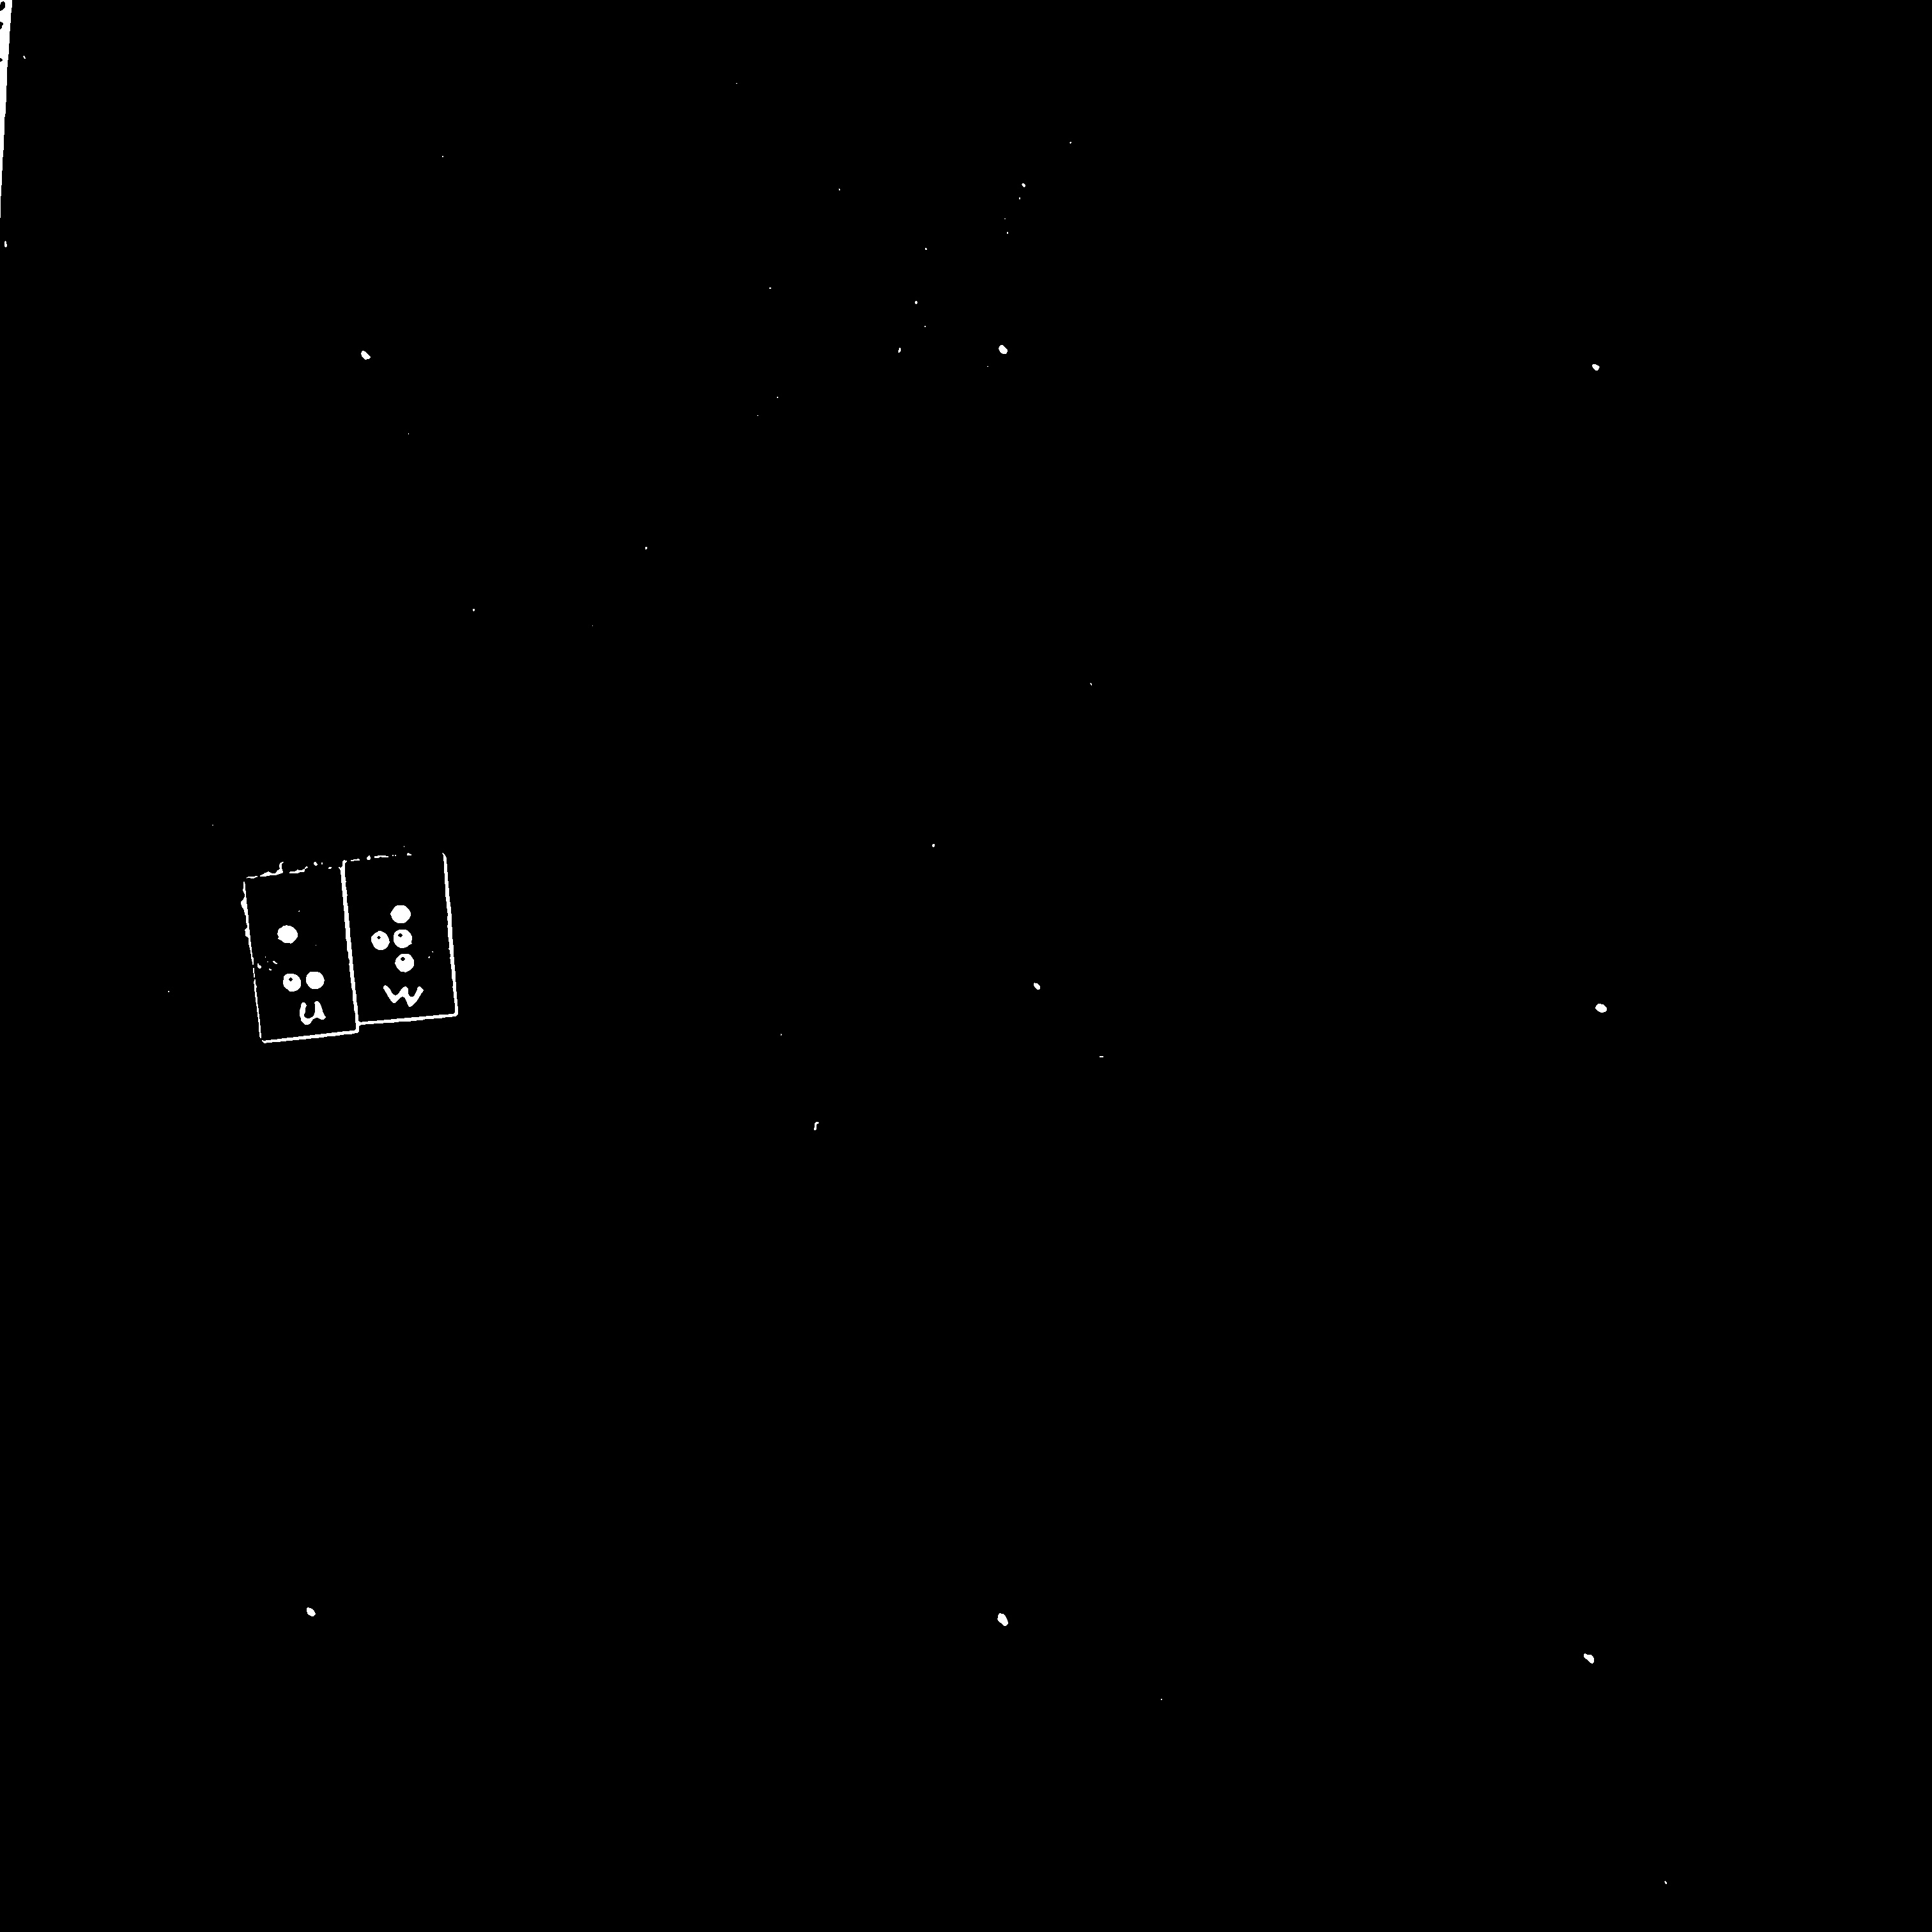u: (273, 919, 328, 998)
w: (366, 894, 425, 983)
